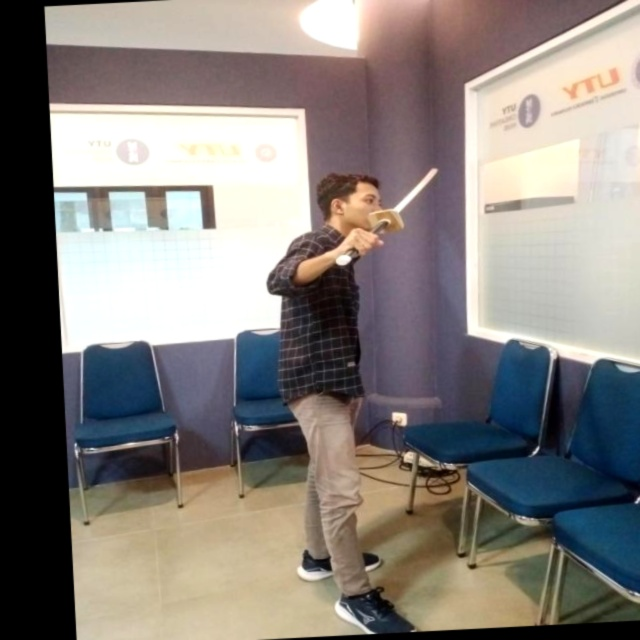Sharp-Object: (322, 158, 454, 280)
